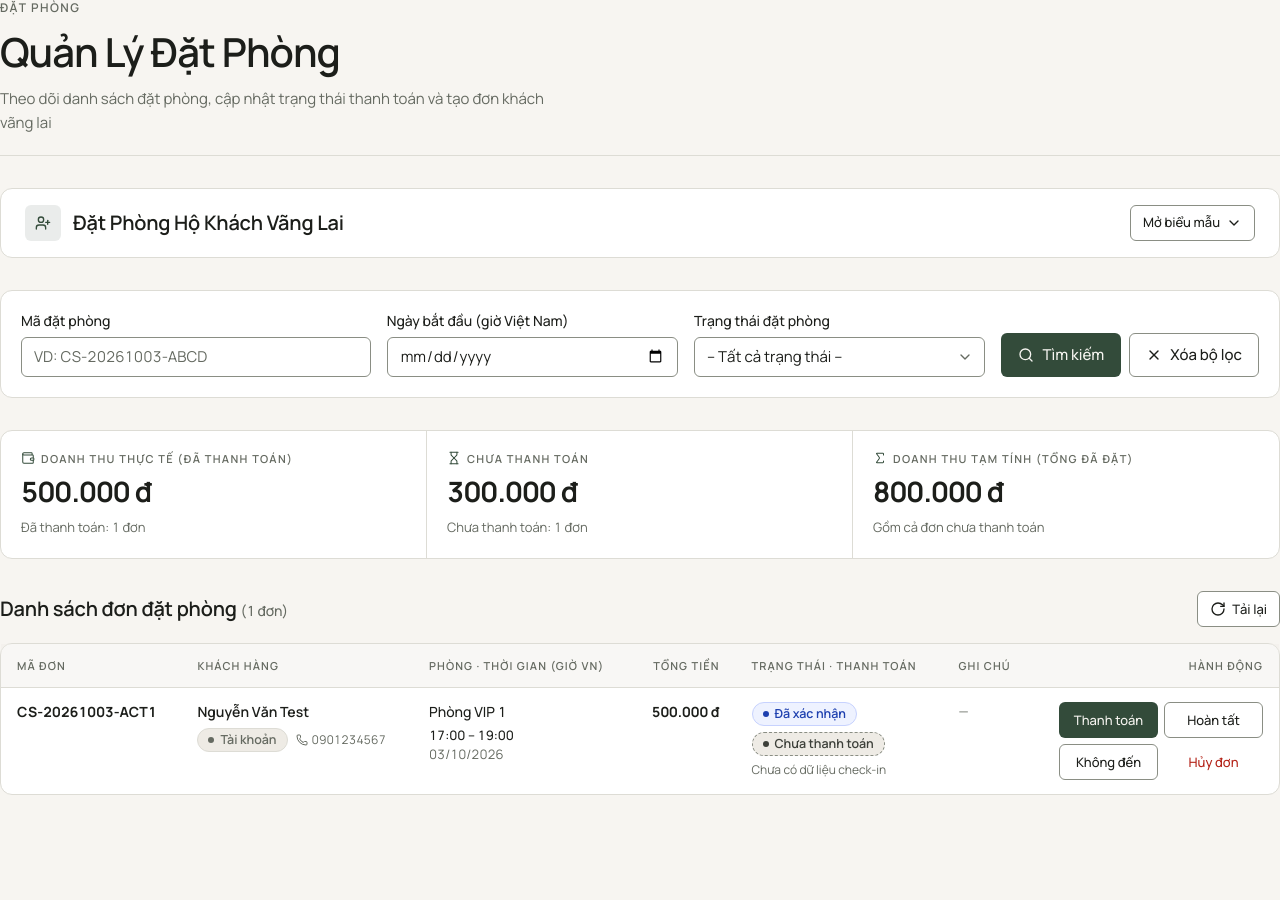
Scenario: AdminBookingsPage - Booking Management & Search › Payment Confirmation & Admin Cancellation Actions › displays error message when confirm payment fails
The width and height of the screenshot is (1280, 900).
Expected: the text "CS-20261003-ACT1" is shown, x1=17 y1=702 x2=157 y2=722
Click the button with test id "confirm-payment-btn-booking-unpaid-confirmed".
click(1108, 720)  # box x1=1059 y1=702 x2=1158 y2=738
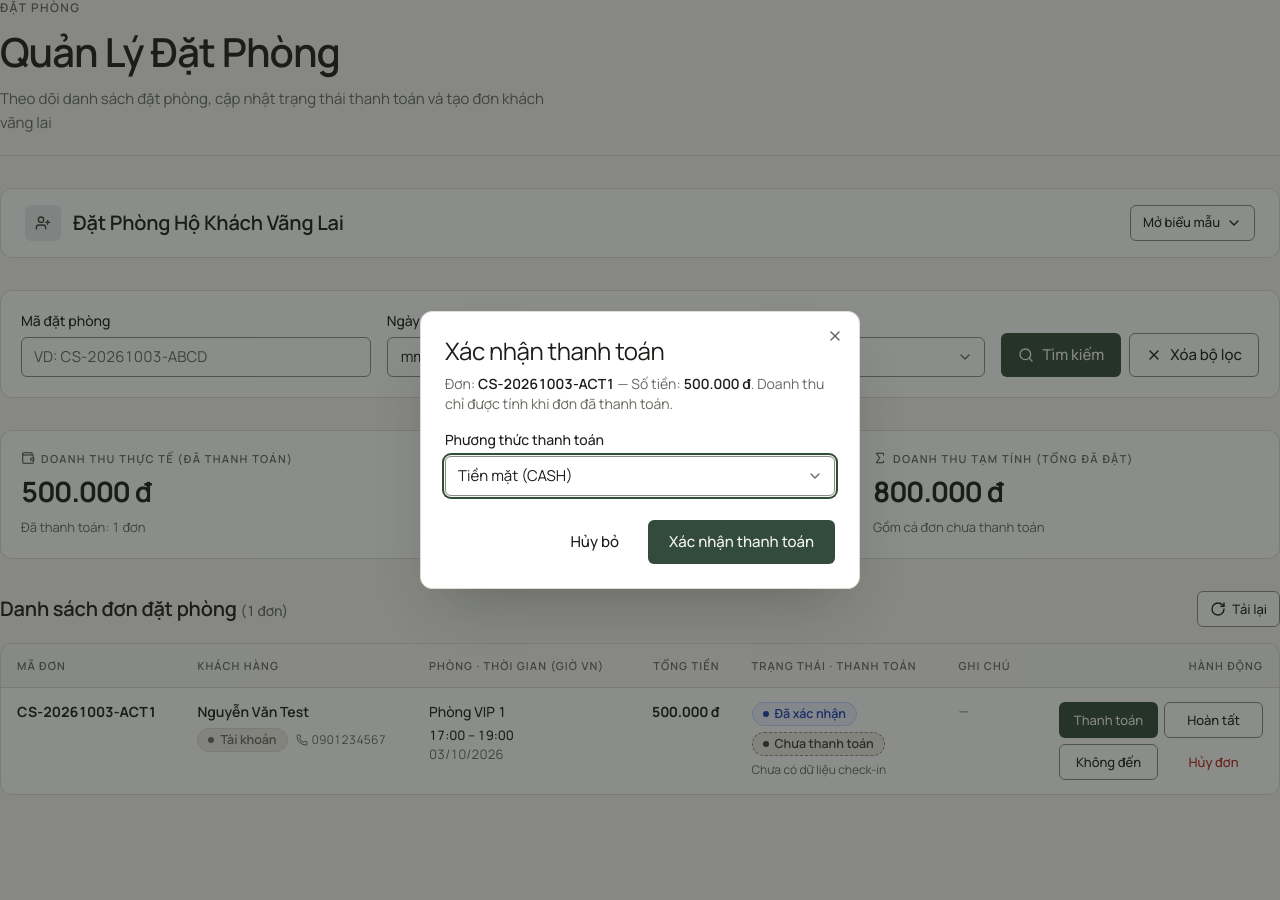
Click the button with test id "submit-payment-btn".
click(742, 542)  # box x1=648 y1=520 x2=835 y2=564
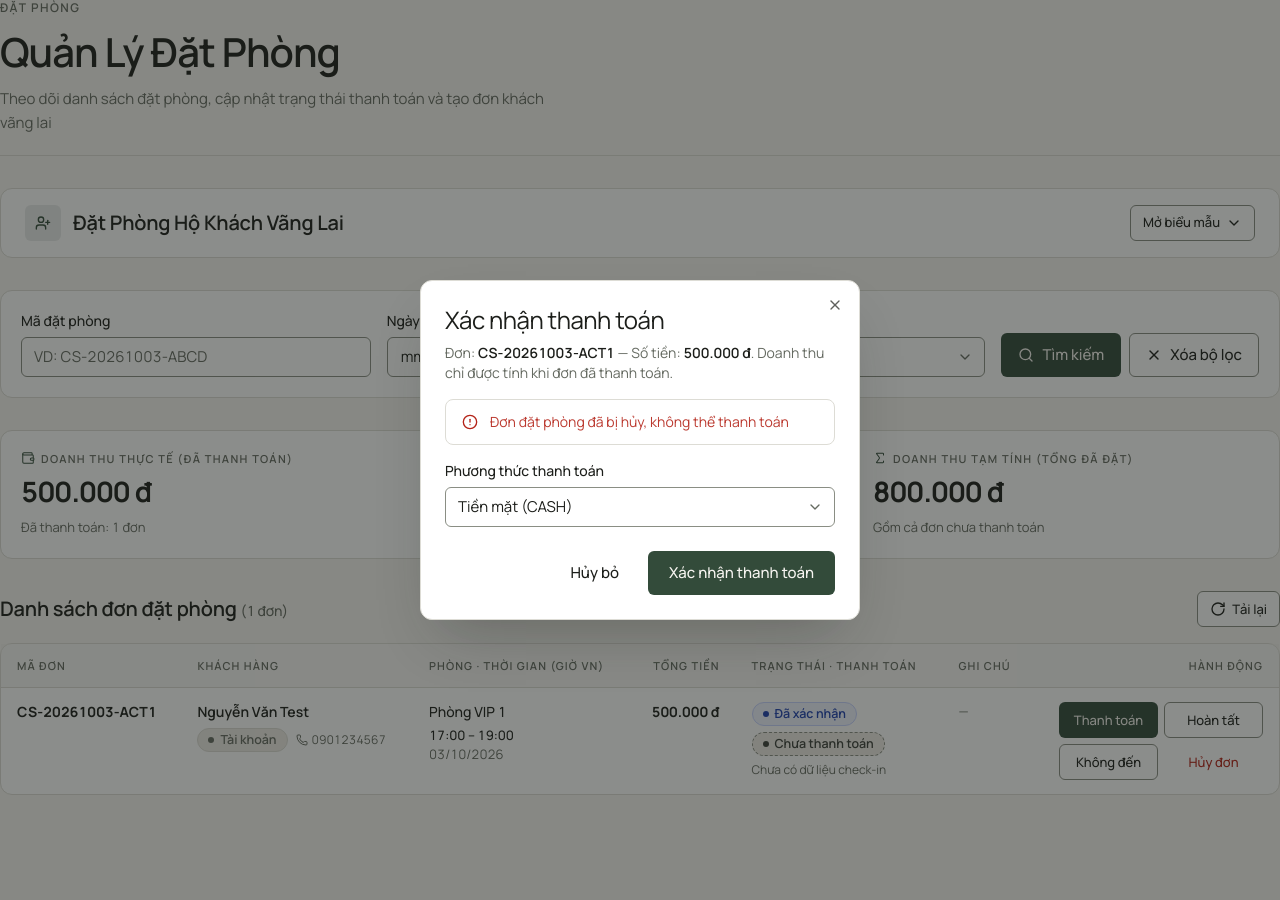
Now the text "Đơn đặt phòng đã bị hủy, không thể thanh toán" is shown, box x1=490 y1=412 x2=818 y2=432
